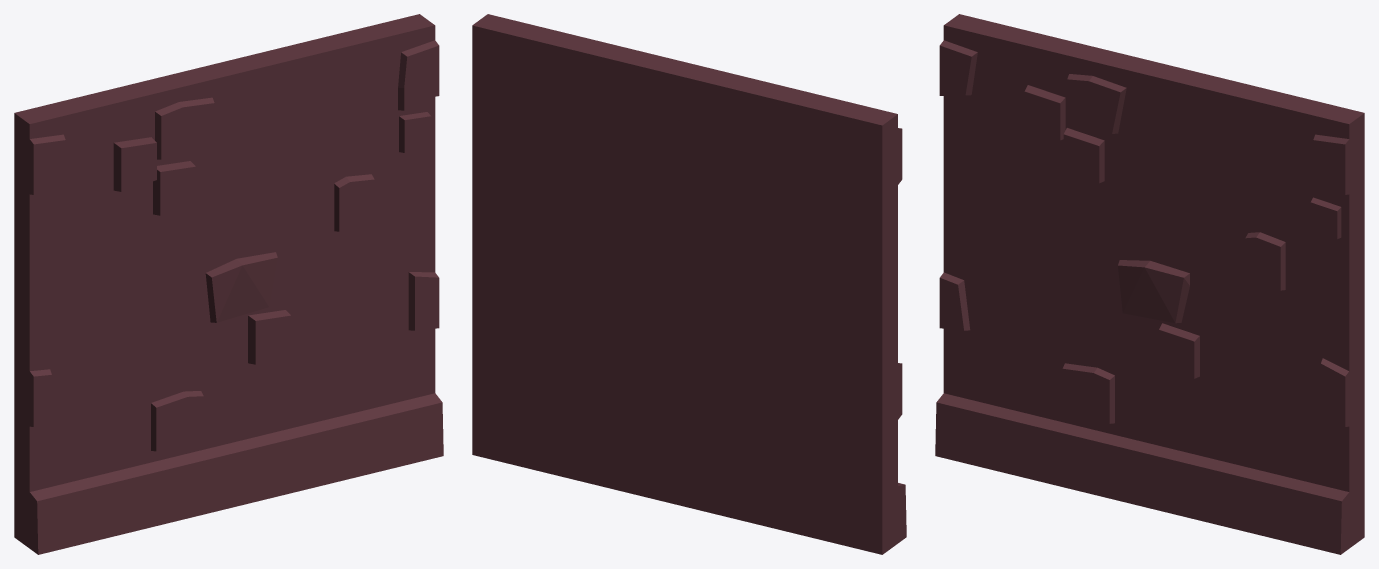
Rendered from SM_Stone_Wall_3x3_Rim_Empire.fbx.
3 renders of one model, left to right at view 1: azimuth 30°, elevation 25°; view 2: azimuth 150°, elevation 25°; view 3: azimuth 330°, elevation 25°, orthographic.
Parts seen in each view (by area): view 1: SM_Stone_Wall_3x3_Rim_Empire; view 2: SM_Stone_Wall_3x3_Rim_Empire; view 3: SM_Stone_Wall_3x3_Rim_Empire.
Part boxes in pixels (x1,y1,x2,y2): SM_Stone_Wall_3x3_Rim_Empire: (14,14,443,554); SM_Stone_Wall_3x3_Rim_Empire: (472,14,906,554); SM_Stone_Wall_3x3_Rim_Empire: (935,14,1364,554).
Size of the model in its own units: 3 by 3 by 0.3082.
